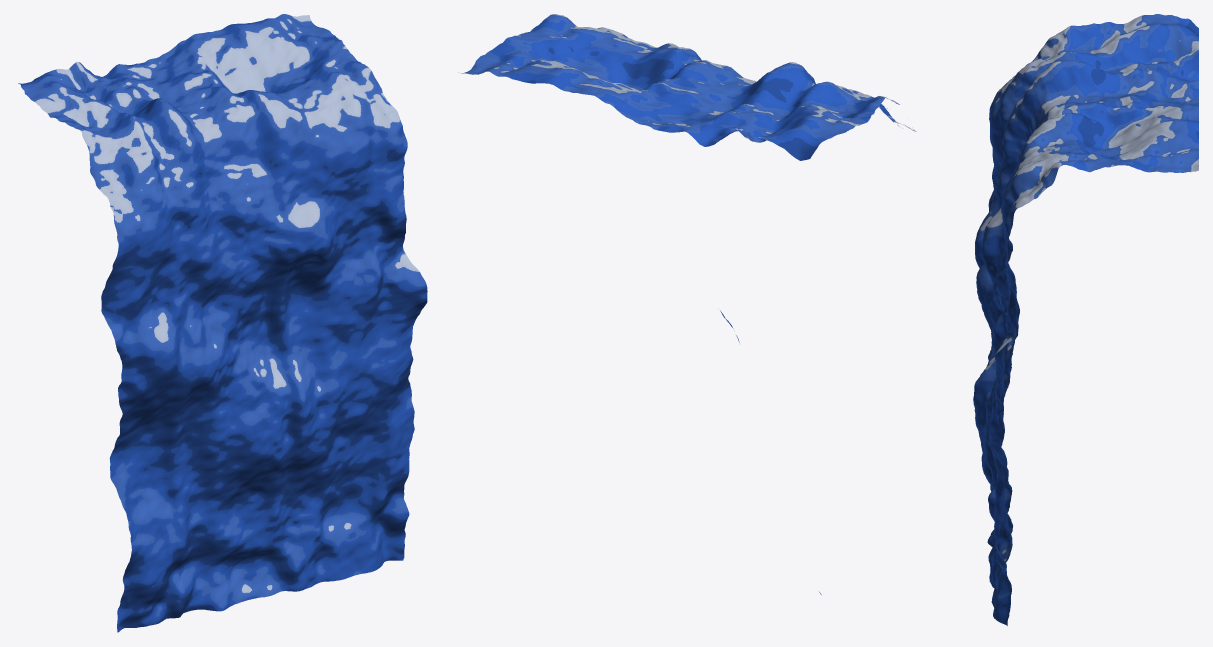
File: waterfall.glb
The picture shows the model from 3 angles, left to right: view 1: azimuth 30°, elevation 25°; view 2: azimuth 150°, elevation 25°; view 3: azimuth 270°, elevation 25°; orthographic projection. The views are drawn at different scales.
Parts seen in each view (by area): view 1: Plane.1; view 2: Plane.1; view 3: Plane.1.
Boxes of the visible parts, left/top/right/bottom form: Plane.1: left=18, top=14, right=427, bottom=632; Plane.1: left=458, top=14, right=916, bottom=594; Plane.1: left=973, top=14, right=1198, bottom=625.
Size of the model in its own units: 272 by 395 by 169.
1 material, 1 textured.
